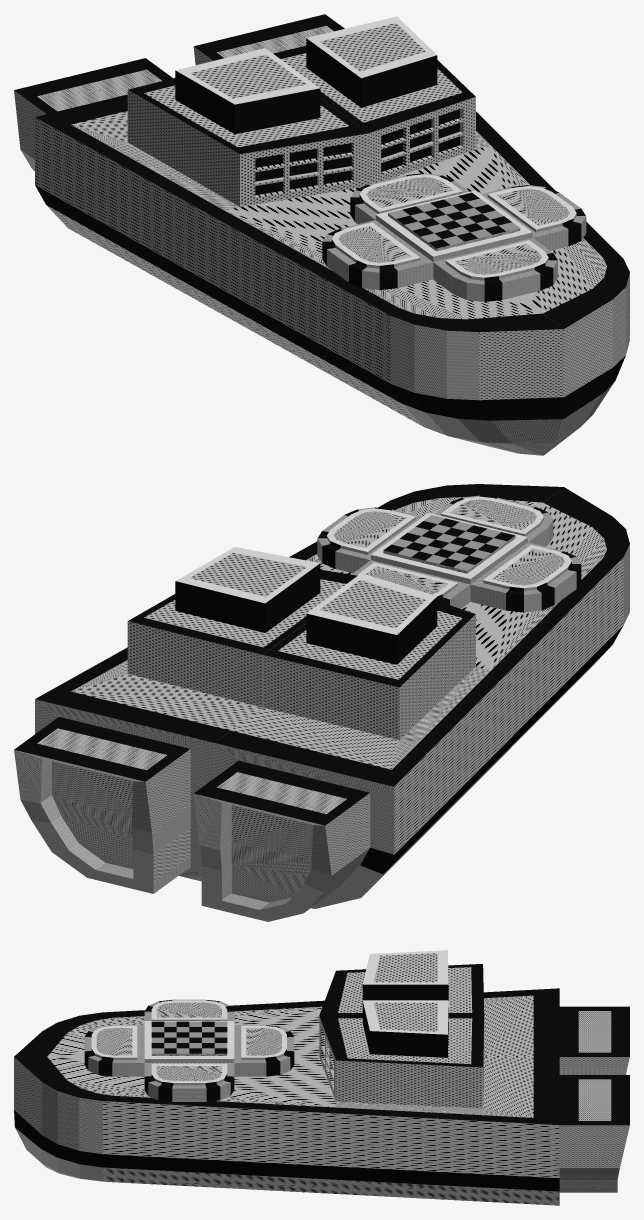
File: SILVER_RepairShip.fbx
3 renders of one model, top to bottom at view 1: azimuth 30°, elevation 25°; view 2: azimuth 150°, elevation 25°; view 3: azimuth 270°, elevation 25°, orthographic. The views are drawn at different scales.
Parts seen in each view (by area): view 1: Cube, Cube.001; view 2: Cube, Cube.001; view 3: Cube, Cube.001.
Part boxes in pixels (box(x1,y1,x2,y2)): Cube: box(14, 14, 629, 455); Cube.001: box(322, 173, 586, 301); Cube: box(14, 484, 629, 921); Cube.001: box(317, 495, 581, 612); Cube: box(14, 950, 629, 1205); Cube.001: box(84, 999, 294, 1101).
Bounding box in the file's own units: 443 × 264 × 843.
